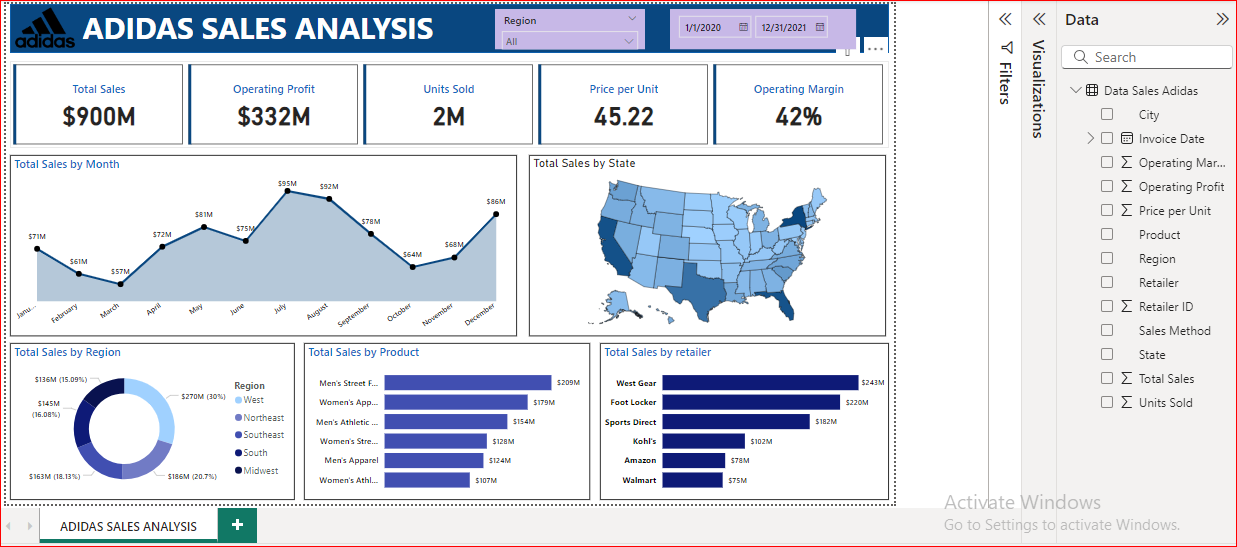

The page's visual inventory and layout, read from the dashboard file:
{"tool":"powerbi","page":{"name":"ADIDAS SALES ANALYSIS","canvas":[1280,720],"ordinal":0},"visuals":[{"type":"shape","box":[5.8,0,1265.8,70.6],"z":0},{"type":"textbox","box":[105.1,0,529.9,67.7],"z":1000},{"type":"cardVisual","fields":{"Data":["Sum(Data Sales Adidas.Total Sales)","Sum(Data Sales Adidas.Operating Profit)","Sum(Data Sales Adidas.Units Sold)","Avg(Data Sales Adidas.Price per Unit)","Avg(Data Sales Adidas.Operating Margin)"]},"box":[5.8,82.1,1265.8,125.3],"z":2000},{"type":"areaChart","title":"Total Sales by Month","fields":{"Category":["Data Sales Adidas.Invoice Date.Variation.Date Hierarchy.Month"],"Y":["Sum(Data Sales Adidas.Total Sales)"]},"box":[5.8,217.4,730.1,260.6],"z":3000},{"type":"shapeMap","title":"Total Sales by State","fields":{"Category":["Data Sales Adidas.State"],"Value":["Sum(Data Sales Adidas.Total Sales)"]},"box":[753.1,217.4,514.1,260.6],"z":4000},{"type":"donutChart","title":"Total Sales by Region","fields":{"Category":["Data Sales Adidas.Region"],"Y":["Sum(Data Sales Adidas.Total Sales)"]},"box":[5.8,488.2,410,226],"z":5000},{"type":"barChart","title":"Total Sales by Product","fields":{"Y":["Sum(Data Sales Adidas.Total Sales)"],"Category":["Data Sales Adidas.Product"]},"box":[429.1,488.2,411.8,226.1],"z":6000},{"type":"barChart","title":"Total Sales by retailer","fields":{"Y":["Sum(Data Sales Adidas.Total Sales)"],"Category":["Data Sales Adidas.Retailer"]},"box":[855.4,488.2,416.2,226.1],"z":7000},{"type":"slicer","fields":{"Values":["Data Sales Adidas.Region"]},"box":[704.2,7.2,216,57.6],"z":8000},{"type":"slicer","fields":{"Values":["Data Sales Adidas.Invoice Date"]},"box":[956.2,7.2,267.8,57.6],"z":9000},{"type":"image","box":[7.2,0,97.9,67.7],"z":10000}]}

Visuals, with their boxes on the page's 1280x720 design canvas (x1, y1, x2, y2). These are canvas units, not pixel positions in the 1237x547 screenshot, which may show the page scaled, cropped or inside an application window:
shape: [x1=6, y1=0, x2=1272, y2=71]
textbox: [x1=105, y1=0, x2=635, y2=68]
cardVisual - Sum(Data Sales Adidas.Total Sales) x Sum(Data Sales Adidas.Operating Profit): [x1=6, y1=82, x2=1272, y2=207]
"Total Sales by Month" areaChart: [x1=6, y1=217, x2=736, y2=478]
"Total Sales by State" shapeMap: [x1=753, y1=217, x2=1267, y2=478]
"Total Sales by Region" donutChart: [x1=6, y1=488, x2=416, y2=714]
"Total Sales by Product" barChart: [x1=429, y1=488, x2=841, y2=714]
"Total Sales by retailer" barChart: [x1=855, y1=488, x2=1272, y2=714]
slicer - Data Sales Adidas.Region: [x1=704, y1=7, x2=920, y2=65]
slicer - Data Sales Adidas.Invoice Date: [x1=956, y1=7, x2=1224, y2=65]
image: [x1=7, y1=0, x2=105, y2=68]
